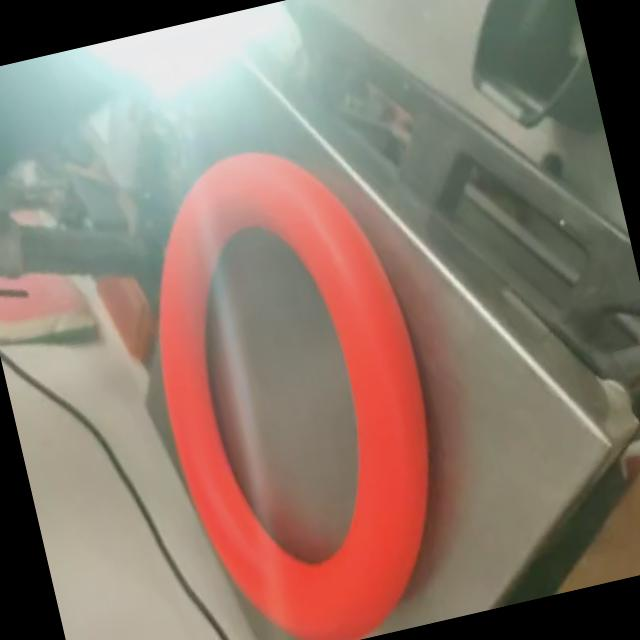note: (107, 117, 480, 640)
